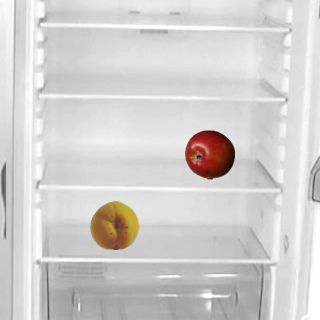Apple Braeburn: (184, 129, 234, 179)
Peach 2: (89, 199, 139, 249)
